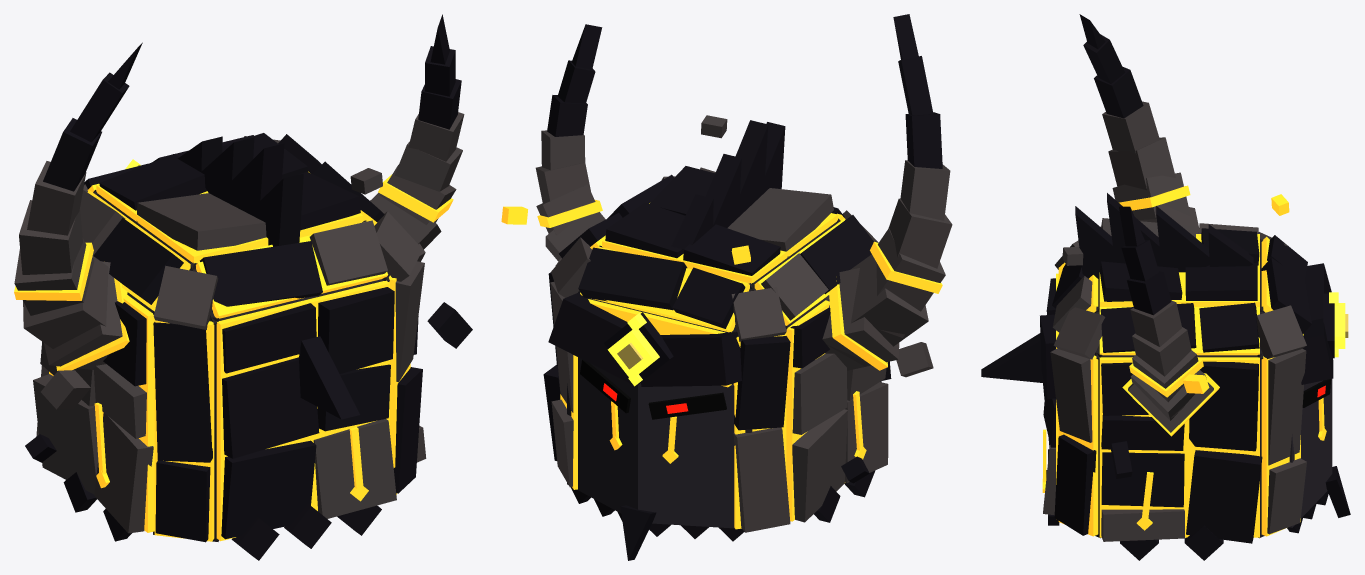
Rendered from CasqueMagma.fbx.
3 views of the same model, side by side, from view 1: azimuth 30°, elevation 25°; view 2: azimuth 150°, elevation 25°; view 3: azimuth 270°, elevation 25° (orthographic). The views are drawn at different scales.
Visible parts, largest first — view 1: Plaques, Plaques_roche, Cornes, Fissures, Pointes, Cornes_obsidienne, Eclats, Coque, Eclats_obsidienne; view 2: Plaques, Plaques_roche, Visiere, Cornes, Fissures, Pointes, Cornes_obsidienne, Visiere_fente, Eclats, Cristal, Eclats_magma, Coque; view 3: Plaques, Plaques_roche, Fissures, Cornes, Pointes, Cornes_obsidienne, Visiere, Coque, Eclats_magma, Cristal, Eclats_obsidienne.
Boxes of the visible parts, x1=… form: Plaques: x1=84, y1=133, x2=422, y2=542; Plaques_roche: x1=33, y1=136, x2=426, y2=533; Cornes: x1=14, y1=112, x2=464, y2=369; Fissures: x1=14, y1=171, x2=453, y2=541; Pointes: x1=63, y1=136, x2=381, y2=560; Cornes_obsidienne: x1=43, y1=14, x2=461, y2=191; Eclats: x1=41, y1=168, x2=382, y2=409; Coque: x1=93, y1=190, x2=389, y2=541; Eclats_obsidienne: x1=25, y1=302, x2=472, y2=462; Plaques: x1=543, y1=166, x2=891, y2=460; Plaques_roche: x1=550, y1=167, x2=888, y2=532; Visiere: x1=567, y1=357, x2=752, y2=528; Cornes: x1=535, y1=130, x2=952, y2=370; Fissures: x1=537, y1=200, x2=942, y2=529; Pointes: x1=571, y1=120, x2=874, y2=560; Cornes_obsidienne: x1=547, y1=14, x2=942, y2=168; Visiere_fente: x1=580, y1=359, x2=726, y2=419; Eclats: x1=701, y1=115, x2=933, y2=377; Cristal: x1=607, y1=313, x2=659, y2=386; Eclats_magma: x1=501, y1=206, x2=750, y2=264; Coque: x1=578, y1=218, x2=840, y2=384; Plaques: x1=1040, y1=228, x2=1334, y2=543; Plaques_roche: x1=1043, y1=218, x2=1306, y2=541; Fissures: x1=1042, y1=185, x2=1326, y2=537; Cornes: x1=1102, y1=101, x2=1213, y2=432; Pointes: x1=981, y1=193, x2=1350, y2=560; Cornes_obsidienne: x1=1079, y1=14, x2=1171, y2=315; Visiere: x1=1289, y1=379, x2=1332, y2=527; Coque: x1=1094, y1=239, x2=1265, y2=538; Eclats_magma: x1=1183, y1=194, x2=1289, y2=393; Cristal: x1=1329, y1=292, x2=1345, y2=357; Eclats_obsidienne: x1=1110, y1=441, x2=1132, y2=478.
Size of the model in its own units: 275 by 302 by 228.
